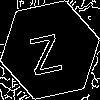Z: (25, 25, 64, 76)
